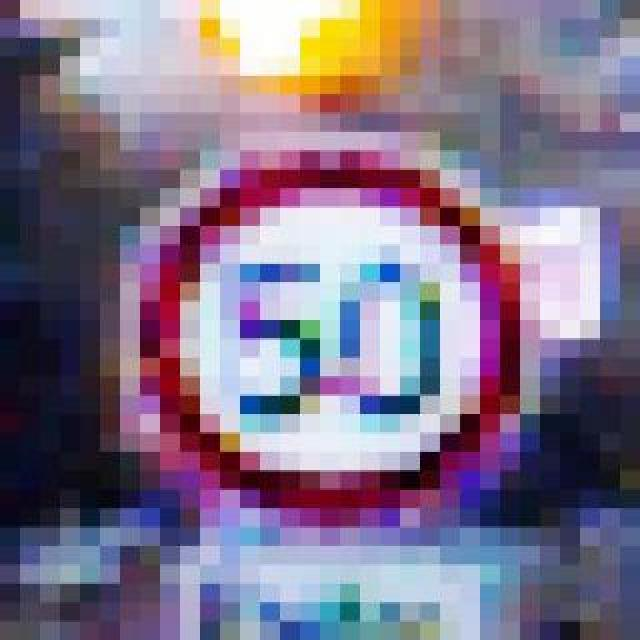50 kph: (100, 114, 500, 528)
